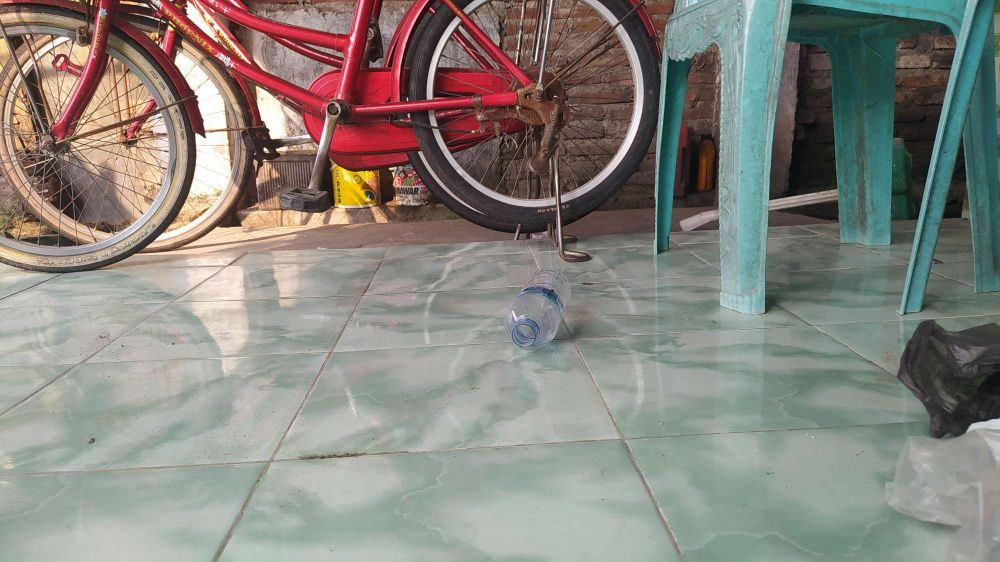botol: (503, 255, 584, 367)
